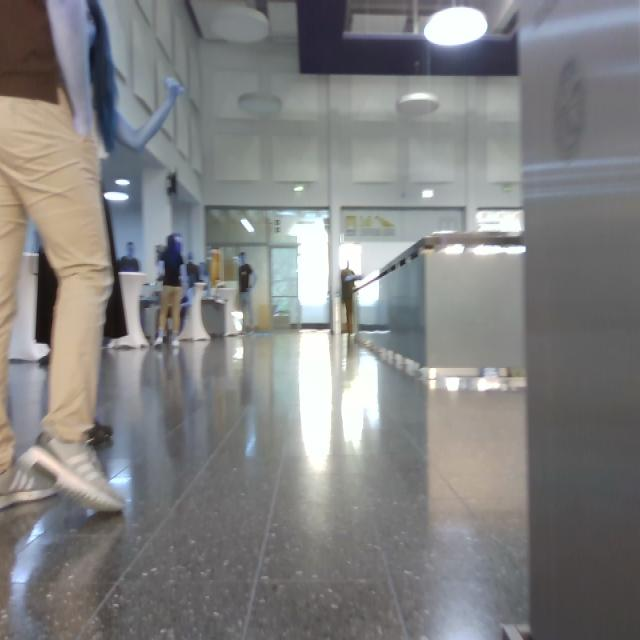light bulb: (425, 8, 488, 46), (239, 93, 281, 117), (397, 93, 438, 117)
person: (1, 1, 182, 510), (156, 236, 183, 342), (341, 265, 362, 334), (239, 253, 255, 332)
tiled floor: (1, 332, 528, 640)
